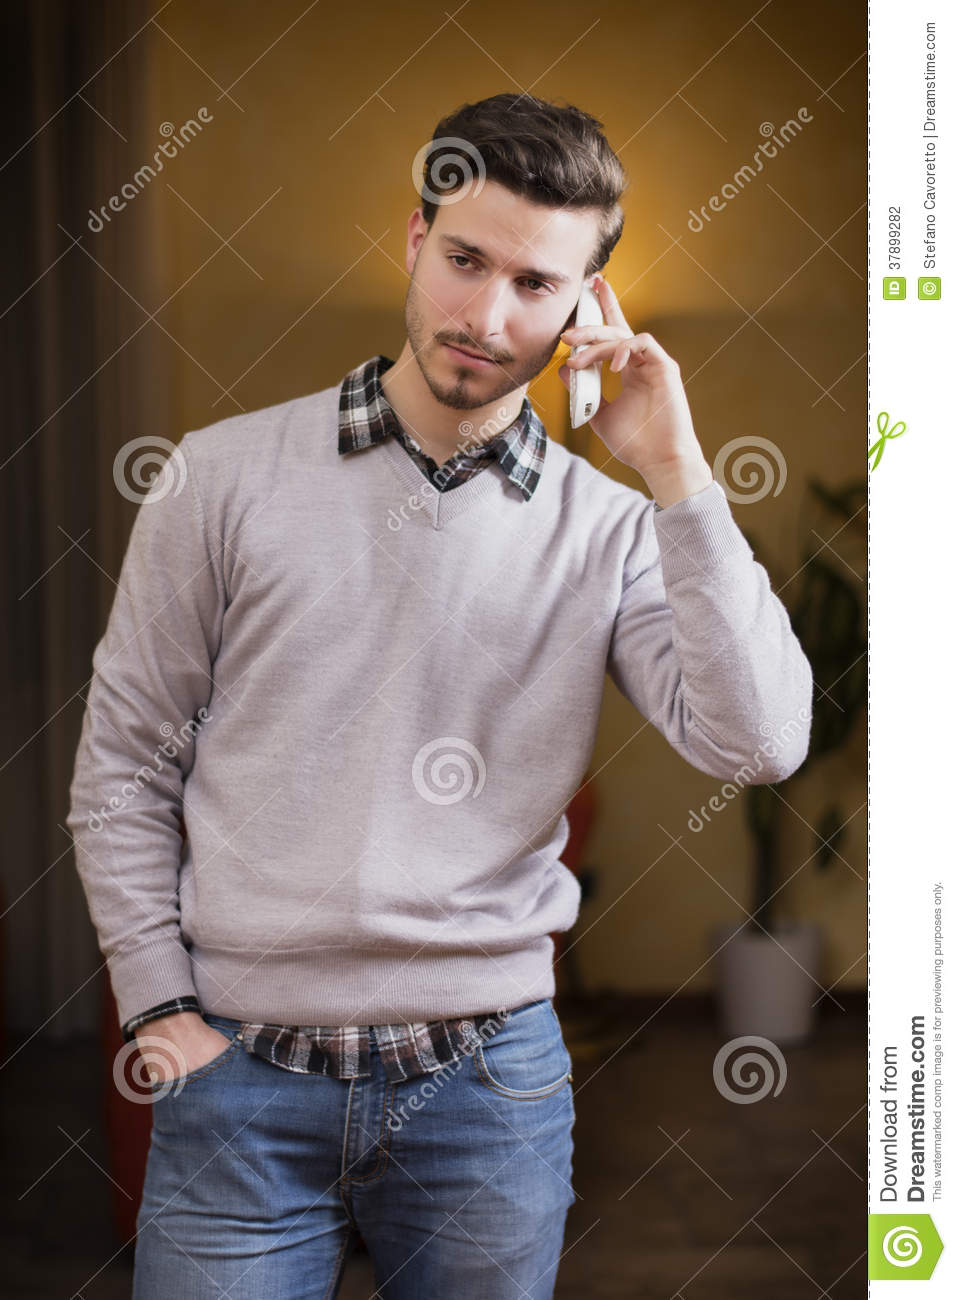phone: (569, 279, 607, 433)
talk: (408, 214, 697, 480)
